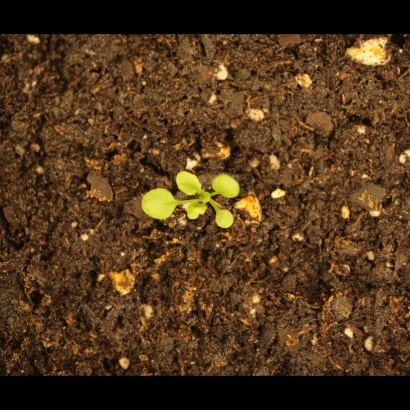leaf: (140, 186, 176, 222), (211, 172, 242, 200), (176, 170, 207, 196), (212, 206, 237, 231), (185, 200, 209, 223)
